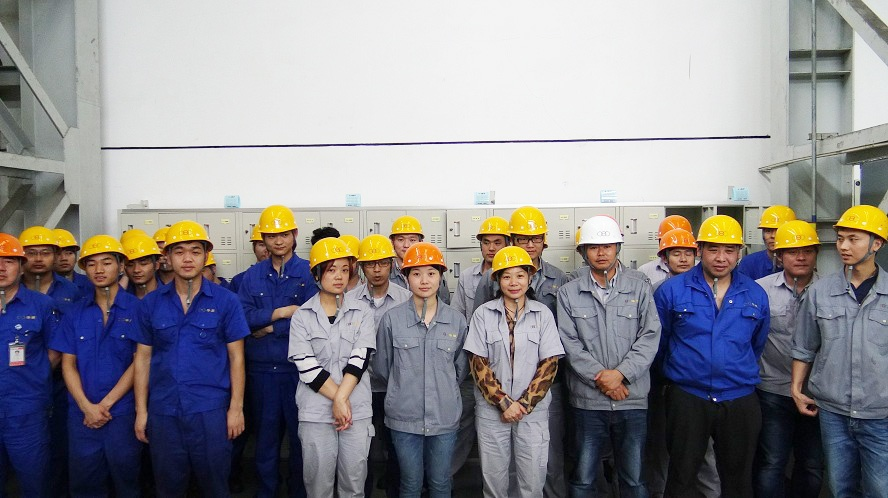white: (576, 214, 623, 274)
yellow: (832, 203, 888, 269), (162, 220, 212, 279), (77, 232, 124, 294), (696, 215, 742, 276), (773, 221, 821, 278), (309, 236, 353, 298), (401, 240, 446, 300), (117, 229, 160, 286), (492, 245, 533, 300), (258, 204, 299, 258), (16, 224, 56, 276), (357, 232, 395, 286), (508, 206, 546, 258), (657, 229, 697, 276), (46, 228, 82, 276), (758, 205, 792, 251), (391, 216, 424, 260), (1, 228, 23, 294), (476, 219, 510, 260), (248, 225, 270, 260)
